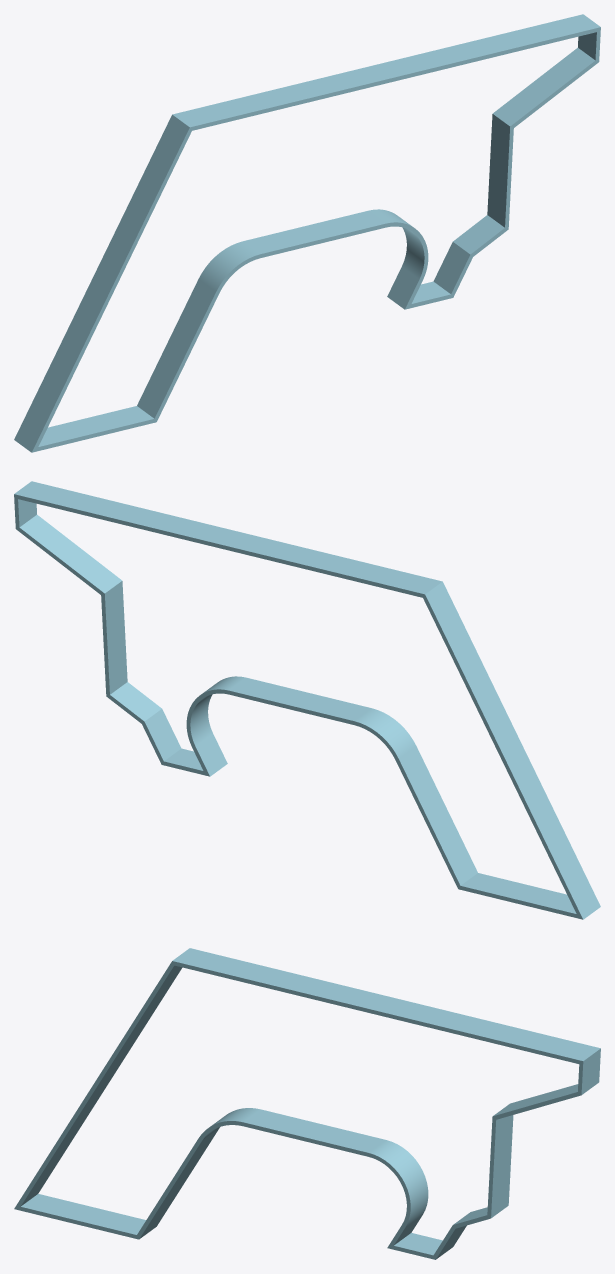
The model's file is barrier_1.obj.
3 views of the same model, one above another, from view 1: azimuth 30°, elevation 25°; view 2: azimuth 150°, elevation 25°; view 3: azimuth 330°, elevation 25° (orthographic).
Parts seen in each view (by area): view 1: Barrier_1; view 2: Barrier_1; view 3: Barrier_1.
Part boxes in pixels (left/top/right/bottom): Barrier_1: left=14, top=14, right=600, bottom=452; Barrier_1: left=14, top=481, right=600, bottom=919; Barrier_1: left=14, top=948, right=600, bottom=1259.
Size of the model in its own units: 0.2975 by 0.1432 by 0.016.
